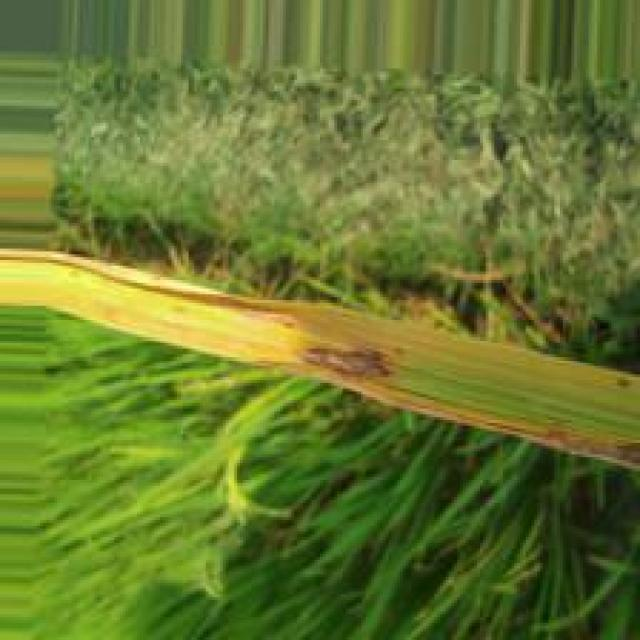Leaf_Blast: (484, 418, 640, 469), (289, 341, 398, 384)
